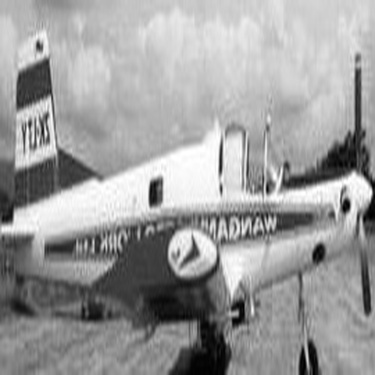airplane: (3, 4, 369, 371)
